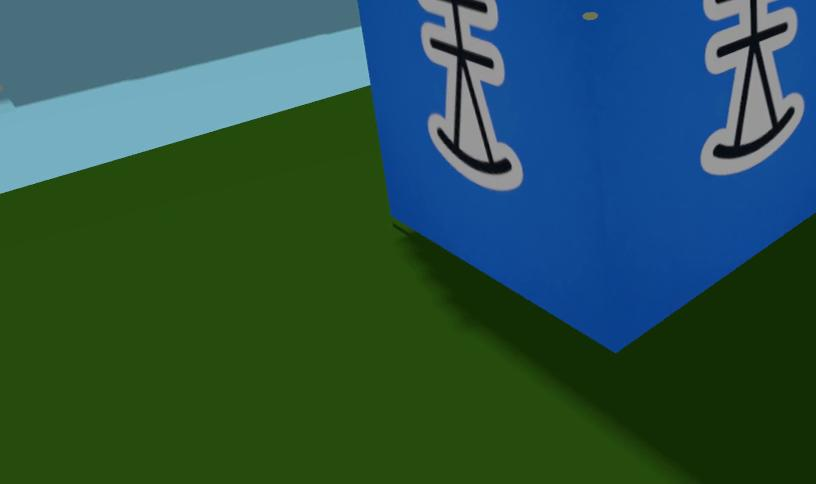KFS_REAL: (356, 0, 816, 350), (418, 0, 522, 190), (701, 0, 803, 174)
